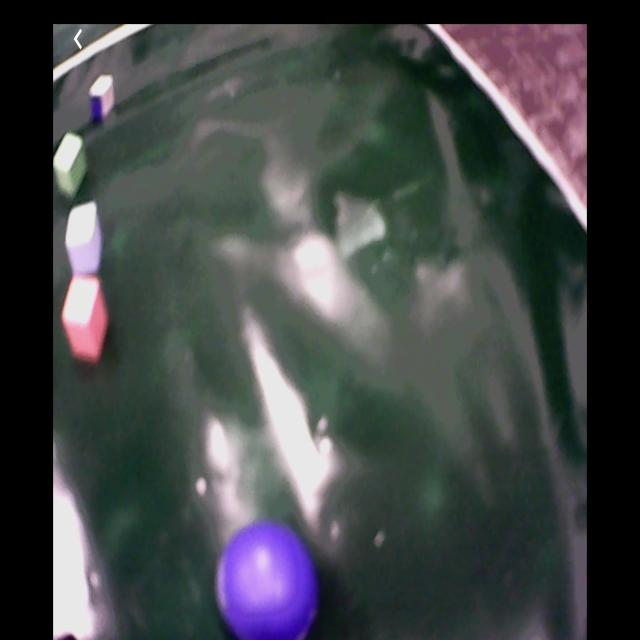ball: (217, 519, 320, 640)
